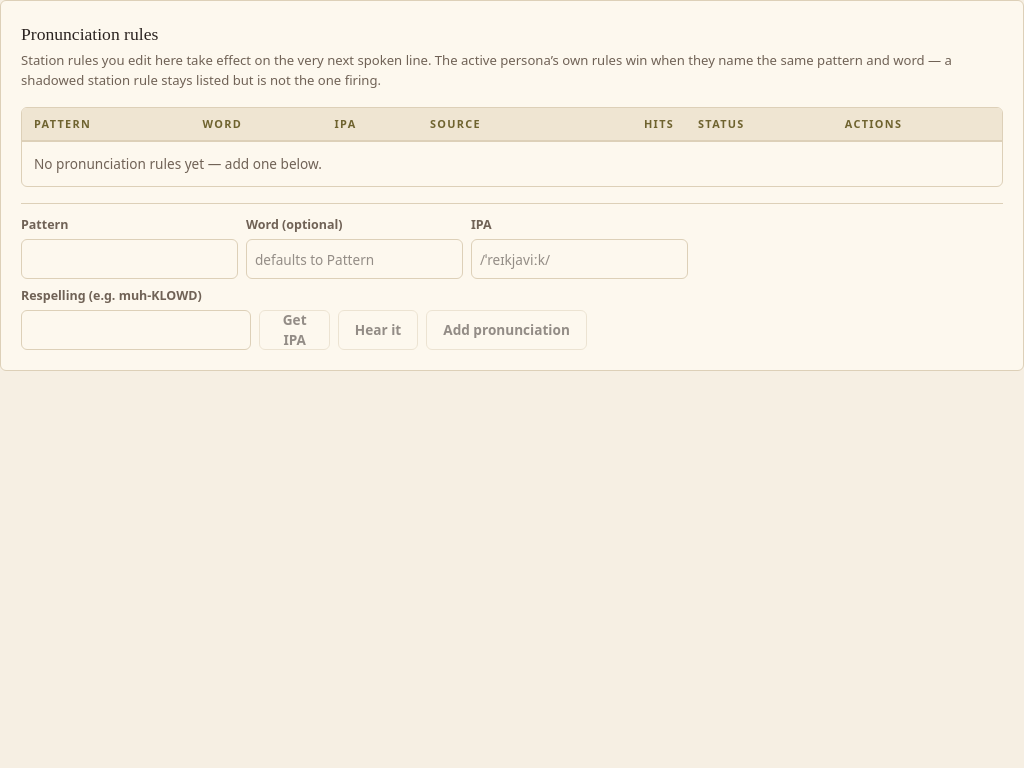
Test case: Feature: adding a pronunciation rule › Scenario: the rule is accepted but collides with a speech correction (gh-#491) › toasts the write's collision warning alongside the success toast
In the field labelled "Pattern": (130, 259) [21, 239, 238, 279], type "MacLeod"
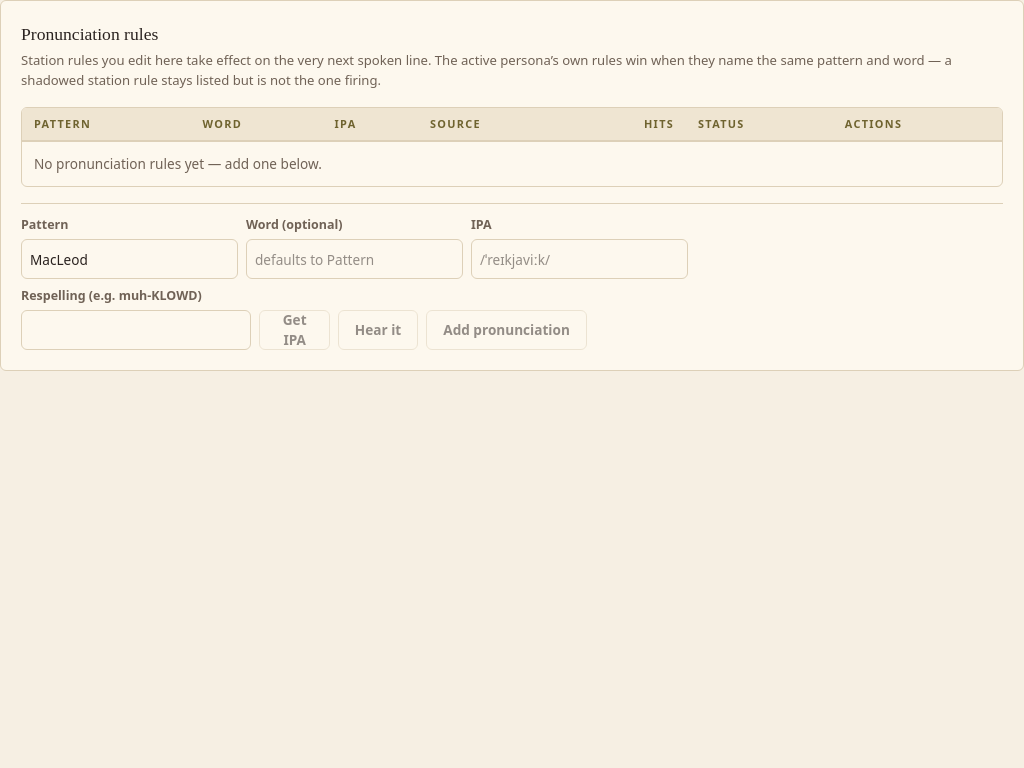
In the field labelled "IPA": (580, 259) [471, 239, 688, 279], type "/x/"
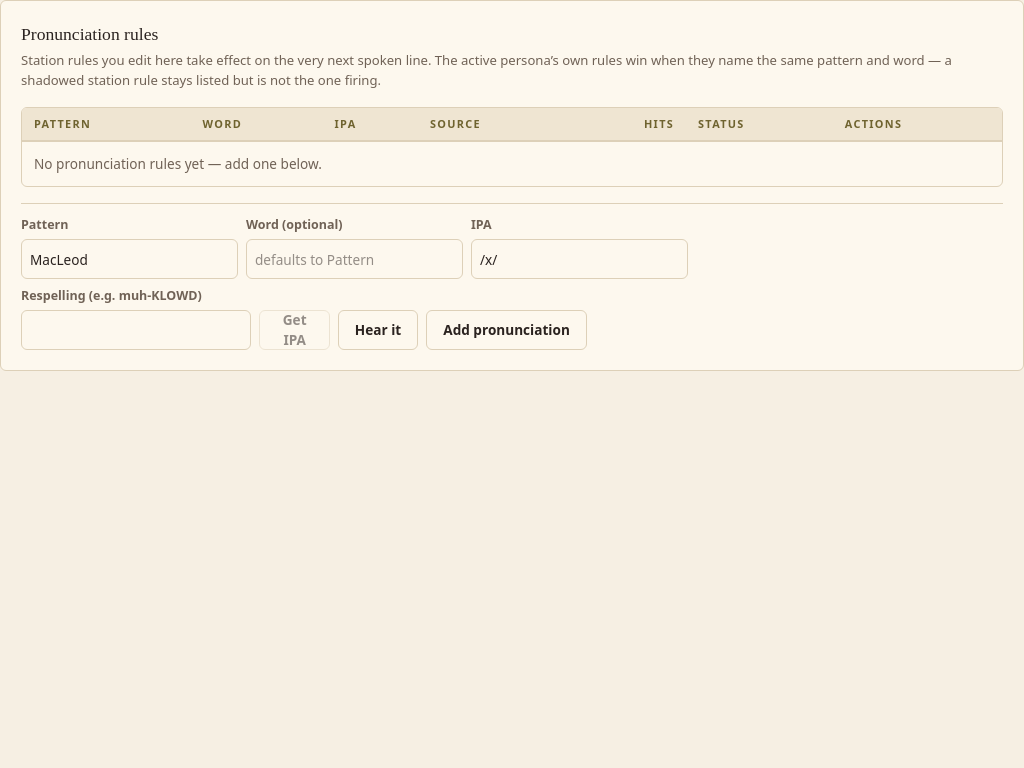
Click the button "Add pronunciation": (507, 330) [426, 310, 587, 350]
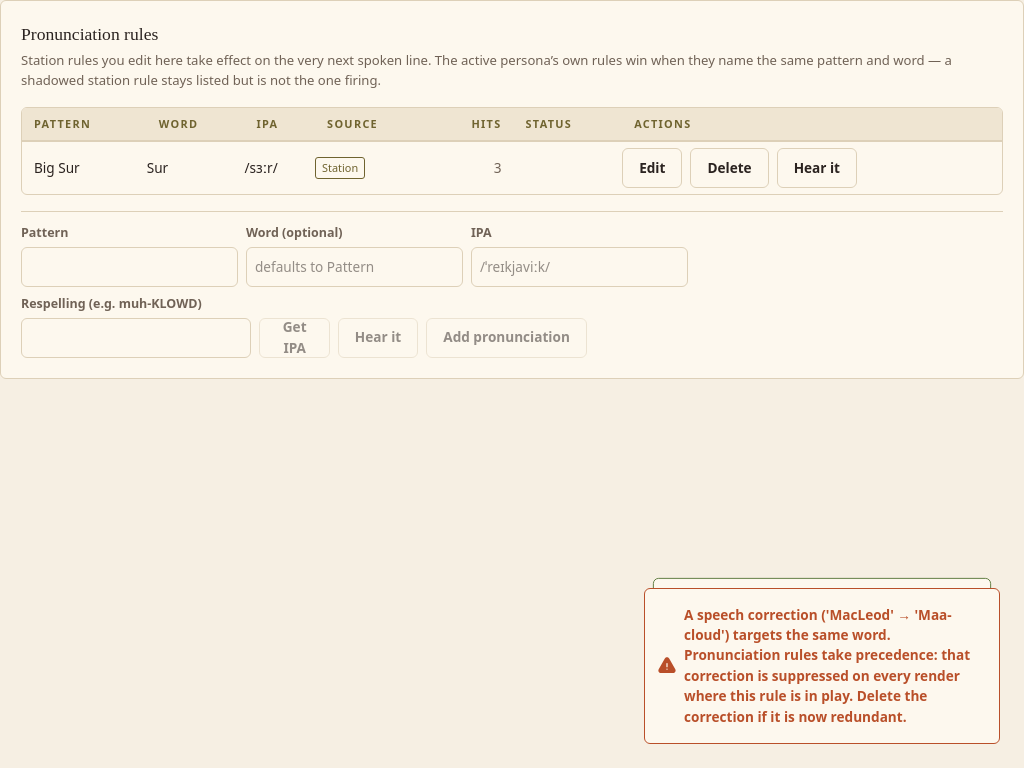
Result: the text "suppressed on every render" is shown at [684, 605, 970, 726]
